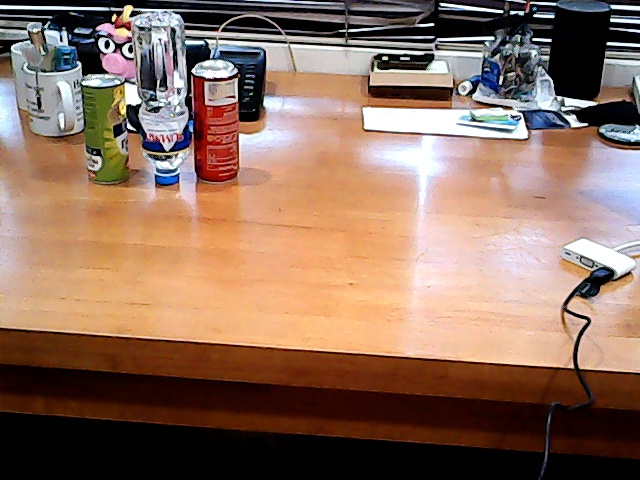Cola: (187, 51, 250, 190)
Pine Juice: (68, 70, 131, 195)
Summit Water: (133, 2, 191, 198)
